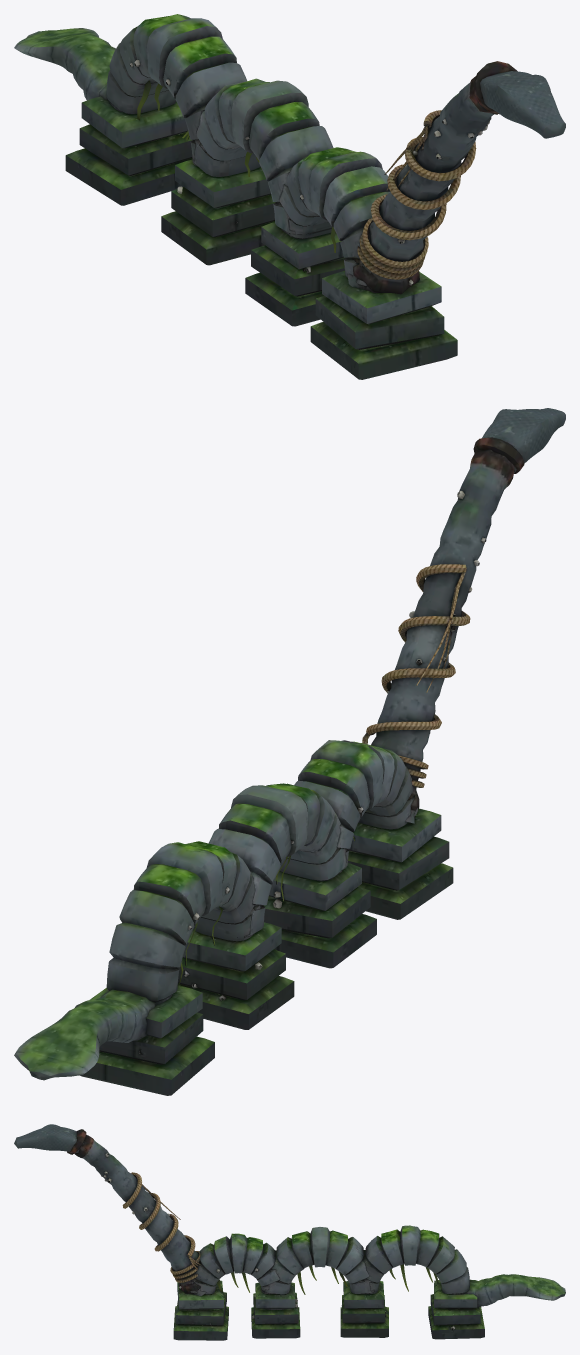
3 views of the same model, one above another, from view 1: azimuth 30°, elevation 25°; view 2: azimuth 150°, elevation 25°; view 3: azimuth 270°, elevation 25° (orthographic). The views are drawn at different scales.
Parts seen in each view (by area): view 1: mossneck; view 2: mossneck; view 3: mossneck.
Boxes of the visible parts, x1,y1,x2,y2 form: mossneck: [14, 14, 565, 379]; mossneck: [14, 408, 565, 1095]; mossneck: [14, 1124, 565, 1340].
Bounding box in the file's own units: 0.1172 × 0.3994 × 1.
Materials: 1 (1 with a texture image).
